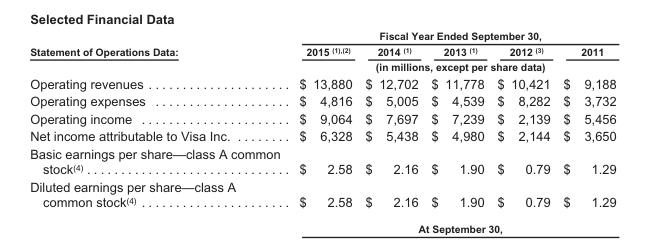table: (29, 29, 615, 208)
table column: (29, 29, 289, 208), (289, 29, 358, 208), (358, 29, 424, 208), (424, 29, 490, 208), (490, 29, 556, 208), (556, 29, 615, 208)
table column header: (29, 29, 615, 73)
table row: (29, 144, 615, 177), (29, 177, 615, 208), (29, 73, 615, 91), (29, 91, 615, 109), (29, 126, 615, 144), (29, 109, 615, 126), (29, 43, 615, 58), (29, 58, 615, 73), (29, 29, 615, 43)
table spanning cell: (29, 29, 289, 73), (289, 58, 615, 73), (289, 29, 615, 43)
